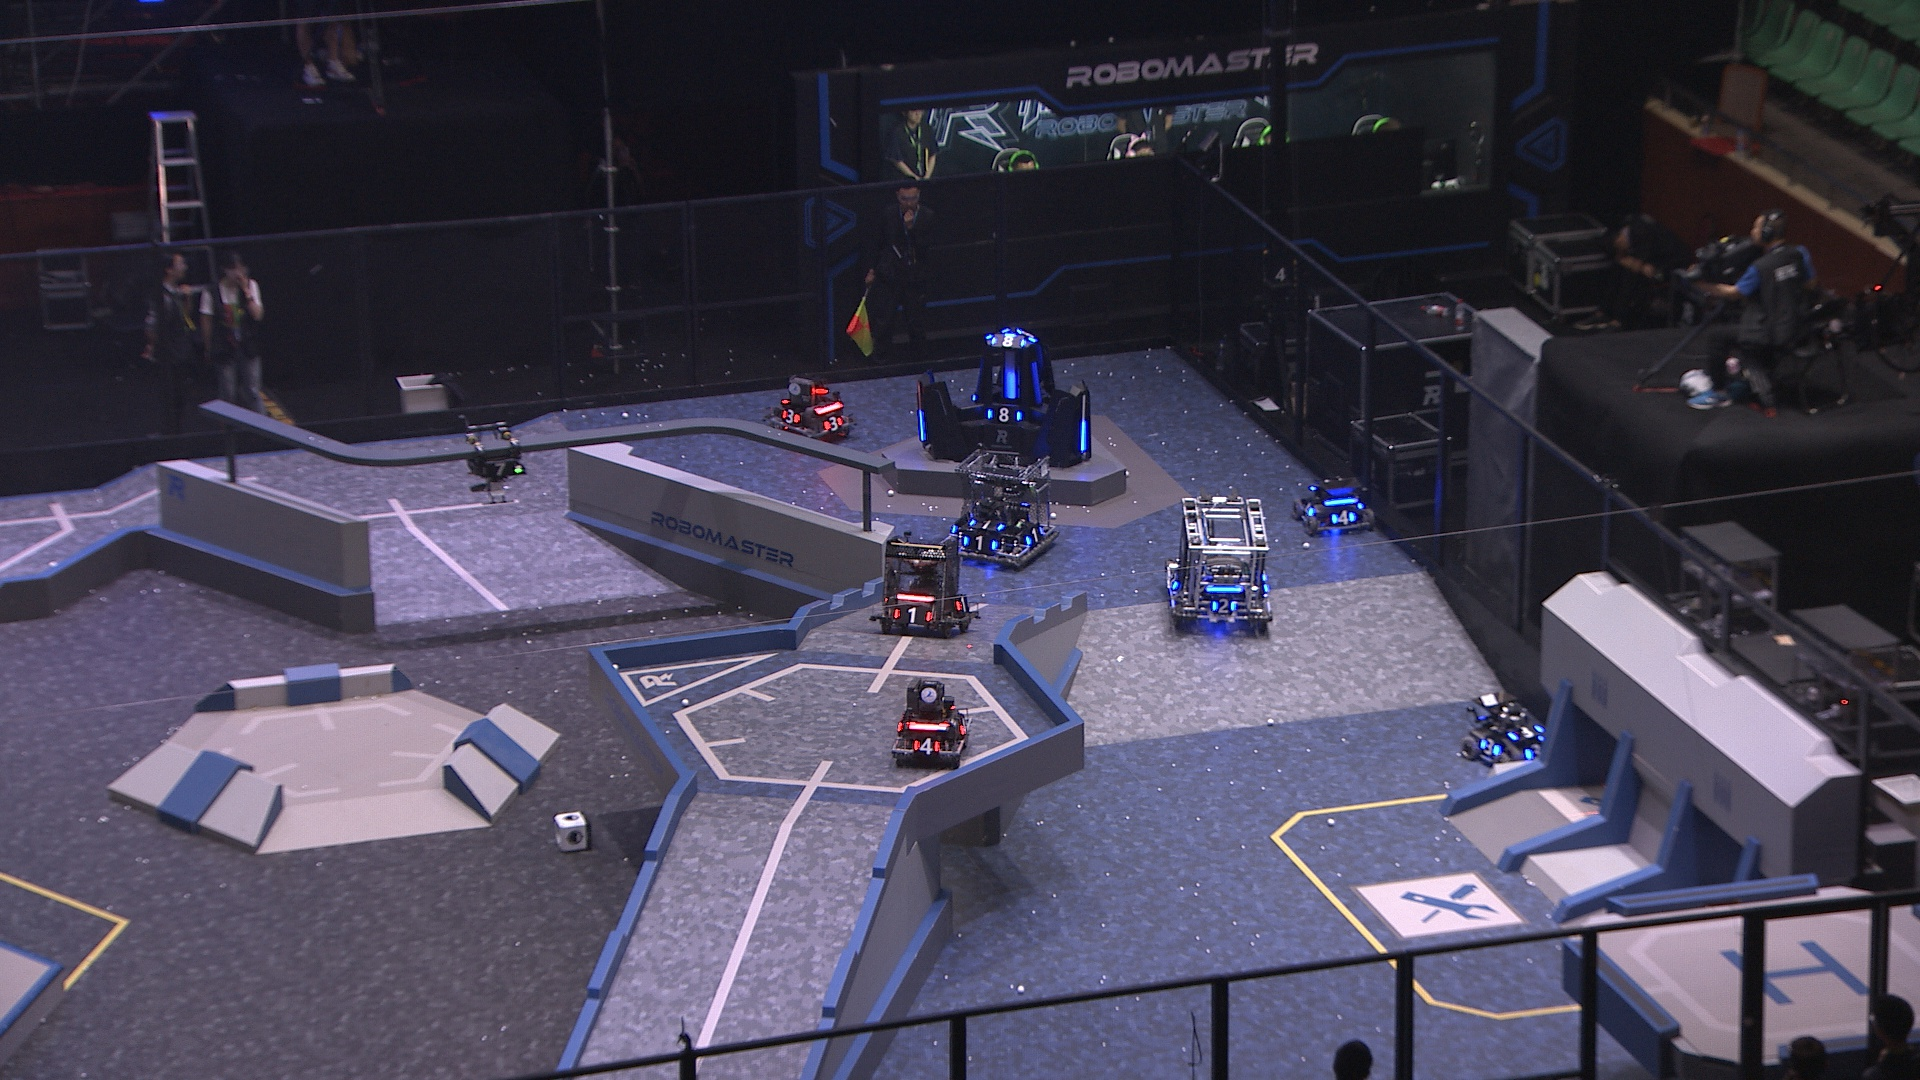armor: (887, 603, 938, 626), (477, 458, 526, 481), (960, 531, 1001, 553), (986, 404, 1025, 425), (988, 330, 1031, 348), (1503, 723, 1543, 742), (910, 735, 945, 756), (822, 410, 845, 436), (968, 516, 1007, 531), (1522, 741, 1548, 764), (1211, 597, 1240, 617), (1029, 361, 1043, 401), (951, 591, 975, 615), (1476, 737, 1501, 760), (779, 406, 804, 427), (1025, 524, 1046, 546), (1331, 510, 1356, 529), (1163, 568, 1182, 591), (1299, 496, 1316, 520), (955, 713, 971, 738), (1077, 419, 1088, 452), (1004, 371, 1015, 398), (916, 406, 926, 442)
base: (913, 323, 1092, 469)
car: (1163, 491, 1273, 636), (942, 447, 1059, 572), (876, 529, 978, 641), (1458, 688, 1555, 774), (893, 679, 973, 769), (1284, 465, 1377, 538), (760, 376, 851, 447)
watcher: (458, 417, 526, 508)
